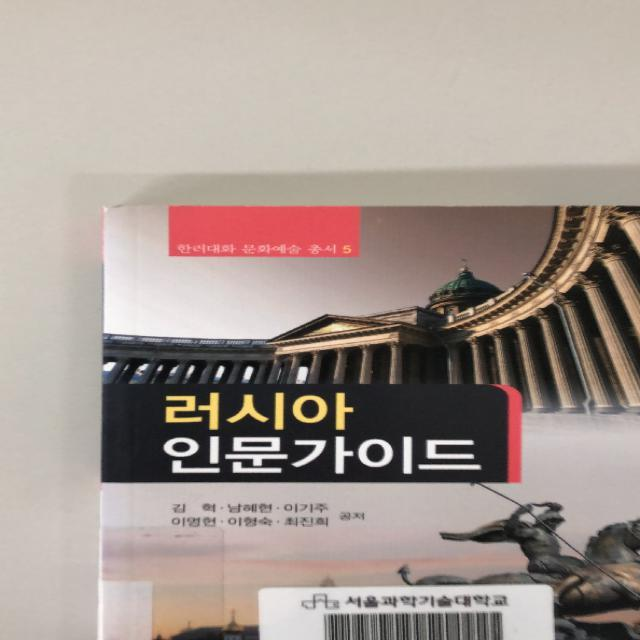Wornout: (96, 198, 149, 218)
